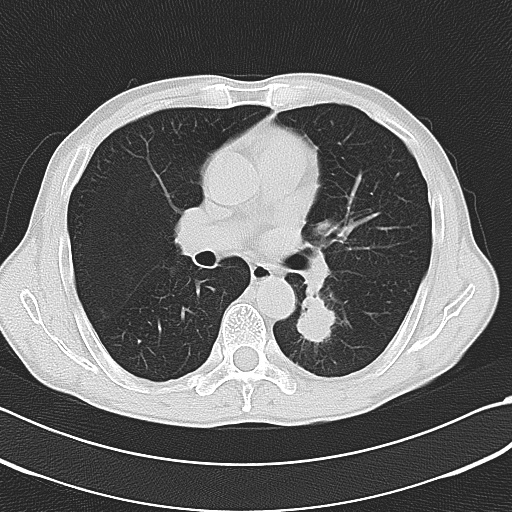Copy of Copy of Copy of Copy of Copy of non-cancer: (162, 281, 207, 333)
Copy of Copy of Copy of Copy of cancer: (290, 262, 335, 314)
Copy of Copy of Copy of Copy of non-cancer: (161, 206, 206, 258)
Copy of Copy of Copy of cancer: (308, 315, 353, 367)
Copy of Copy of Copy of non-cancer: (188, 157, 233, 209)
Copy of Copy of cancer: (277, 299, 322, 351)
Copy of Copy of non-cancer: (186, 223, 231, 275)
Copy of cancer: (312, 276, 357, 328)
Copy of non-cancer: (326, 172, 371, 224)
cancer: (294, 293, 339, 345)
non-cancer: (312, 192, 357, 244)
